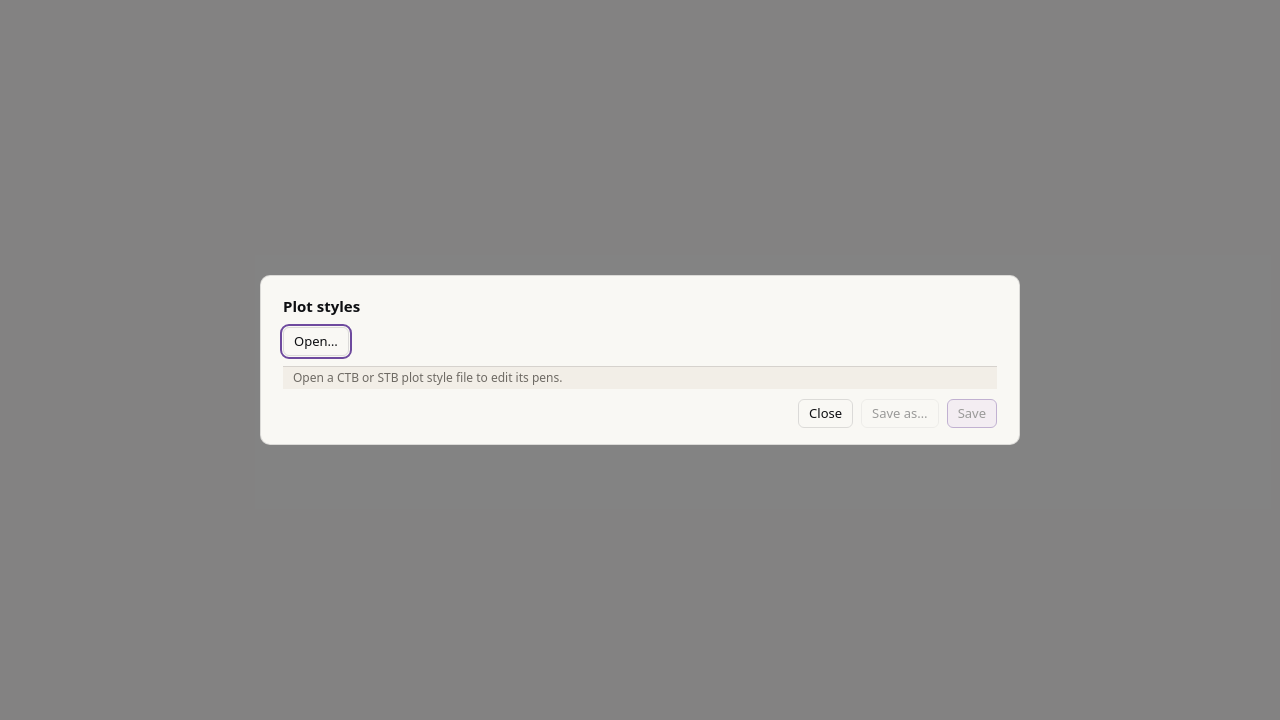
Test case: a file that can't be read, or saved, says why
Click the button "Open…". click: (316, 342)
box: top-left (283, 327), bottom-right (349, 356)
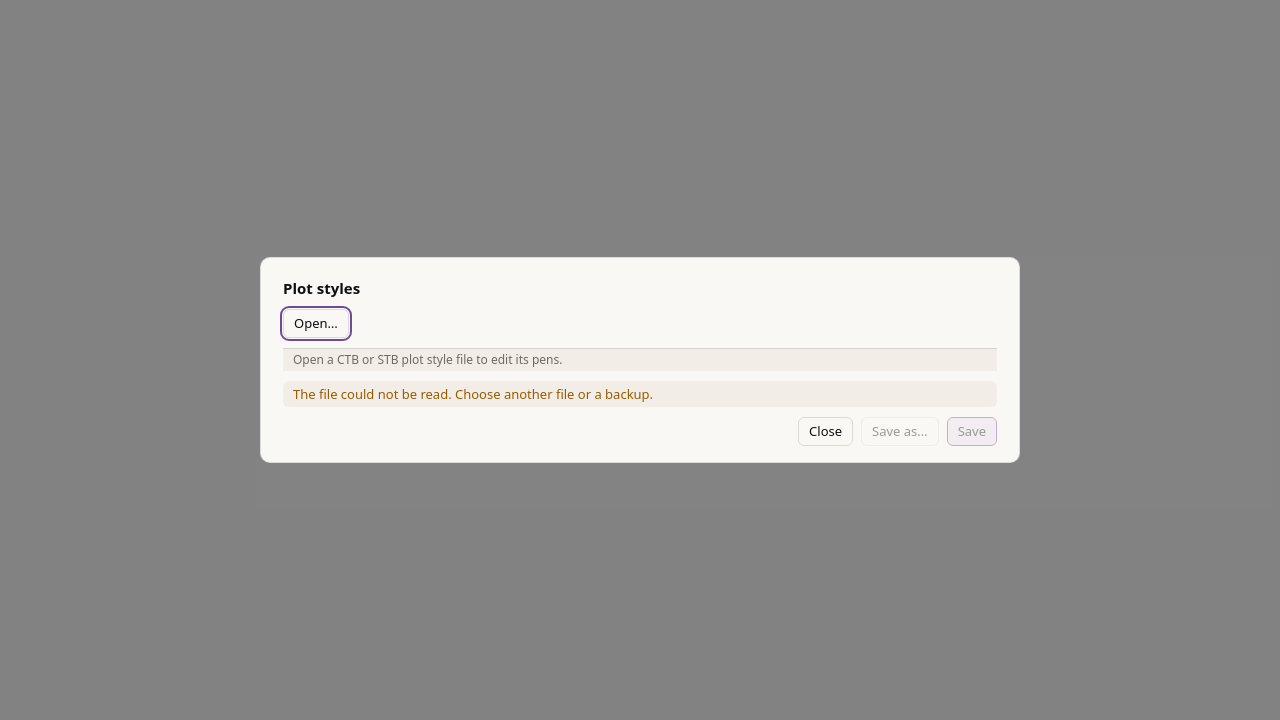
Result: the message reads "The file could not be read. Choose another file or a backup." at top-left (293, 385), bottom-right (653, 403)
Click the button "Open…". click: (316, 323)
box: top-left (283, 309), bottom-right (349, 338)
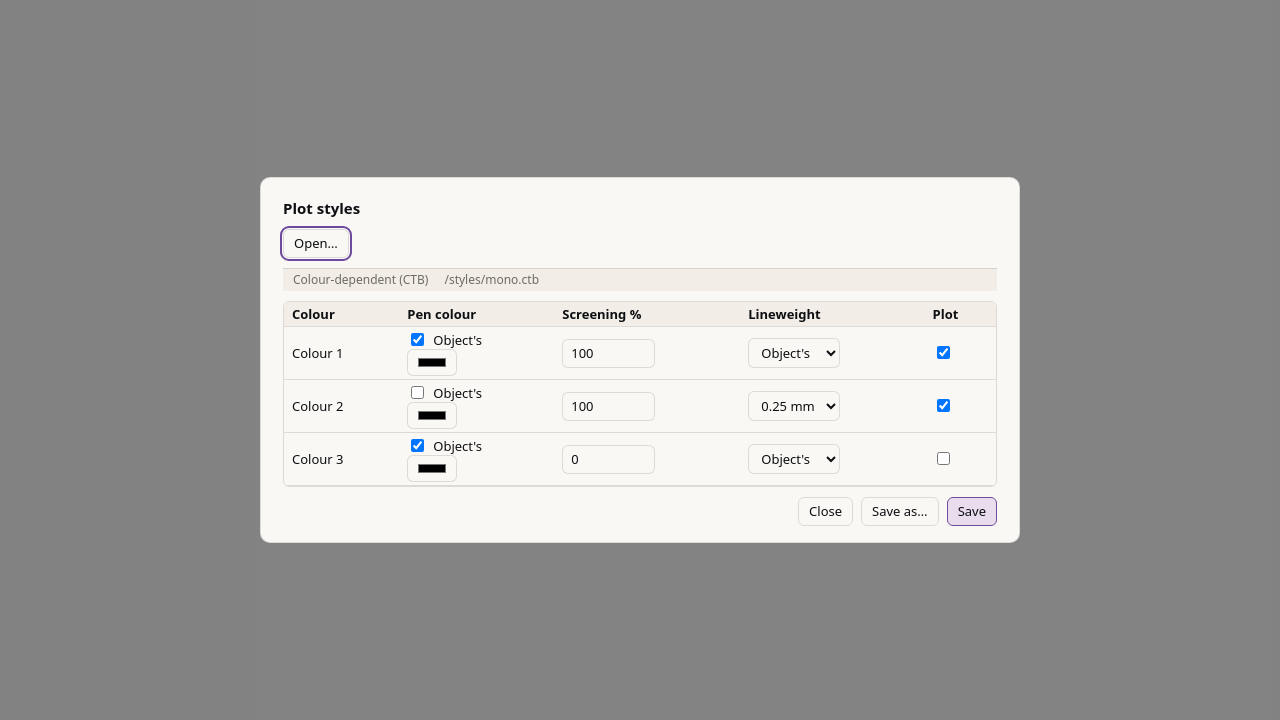
Result: the table is shown at top-left (284, 302), bottom-right (996, 486)
Result: the message "The file could not be read. Choose another file or a backup." is gone
Click the button "Save". click: (972, 512)
box: top-left (947, 498), bottom-right (997, 526)
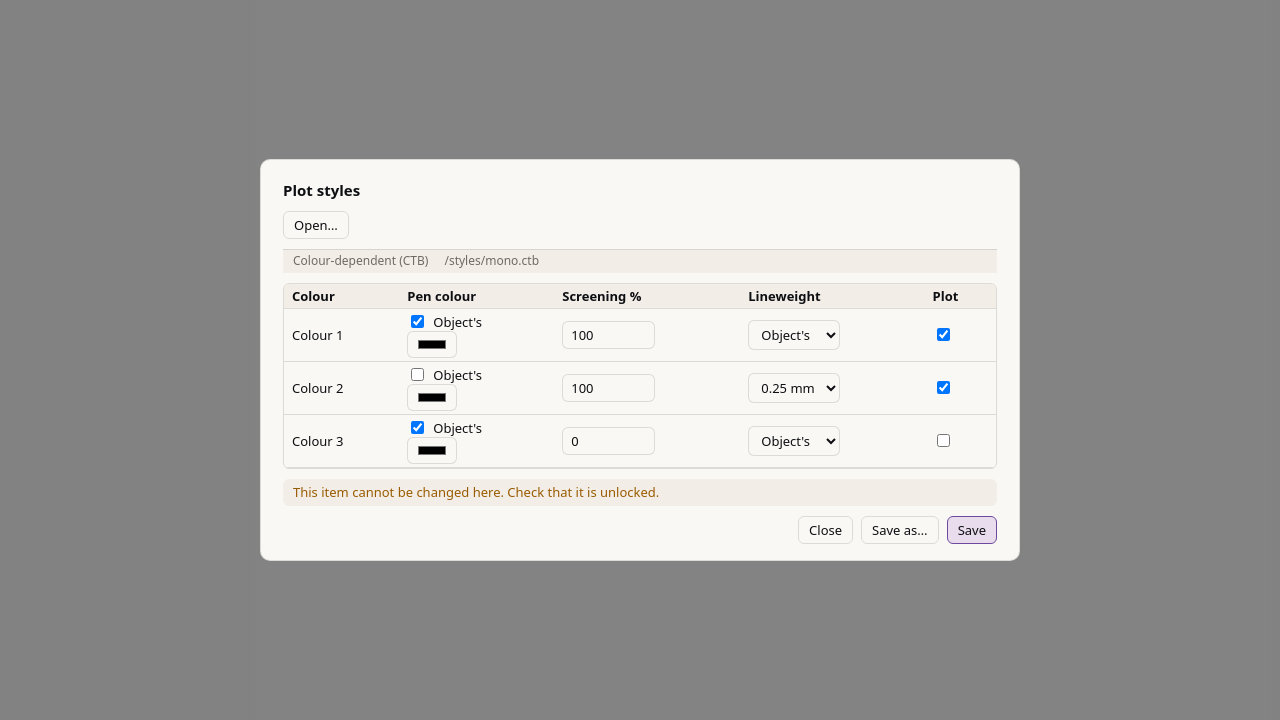
Result: the message reads "This item cannot be changed here. Check that it is unlocked." at top-left (293, 483), bottom-right (659, 501)
